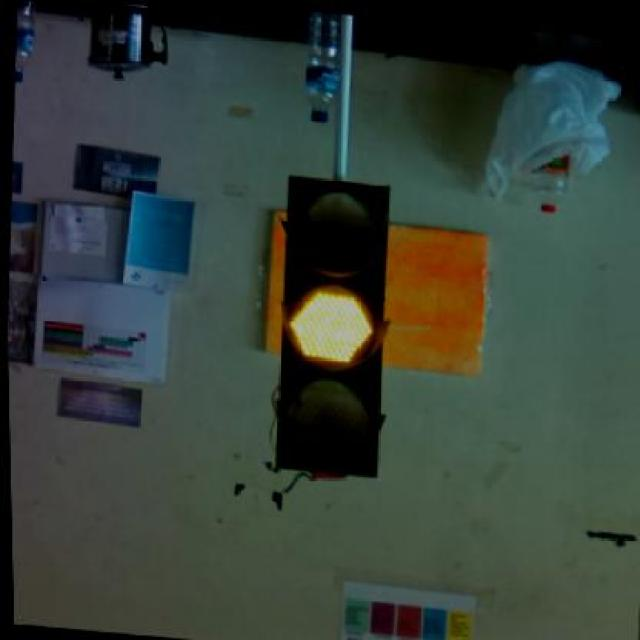yellow_light: (268, 171, 395, 474)
